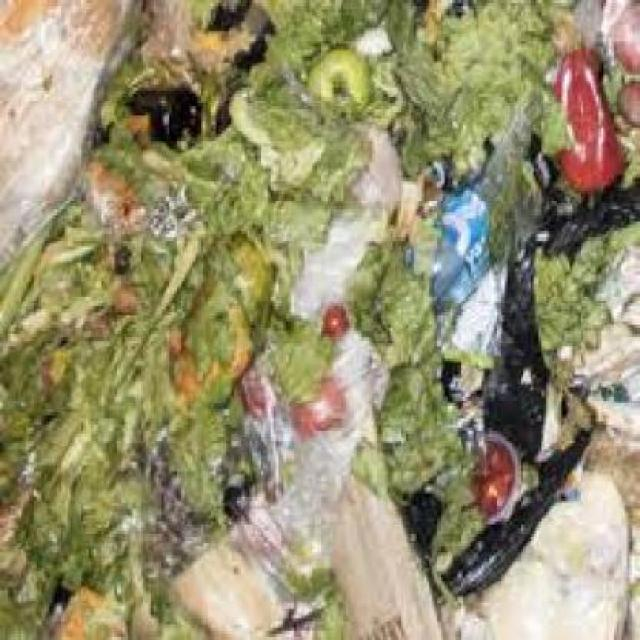garbage: (0, 0, 634, 637)
